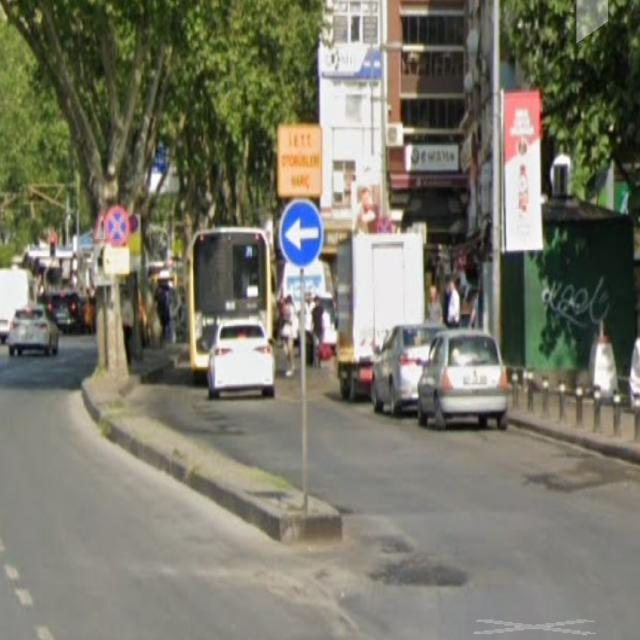Turn Left: (276, 202, 324, 269)
